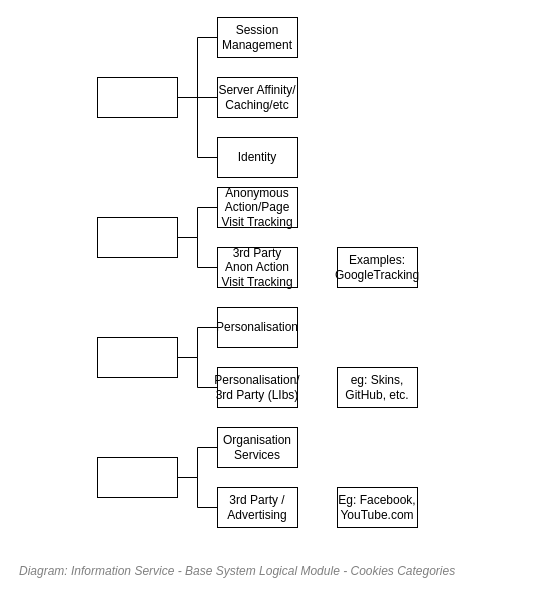
The diagram is 554 pixels wide and 599 high, and some of its shapes have lost their labels. The shapes that lost their labels are listed below. From the top down, each one's centre as x and y in pixels, then its label:
point 137,97: Essential
point 137,237: Performance
point 137,357: Functional
point 137,477: Targetted
